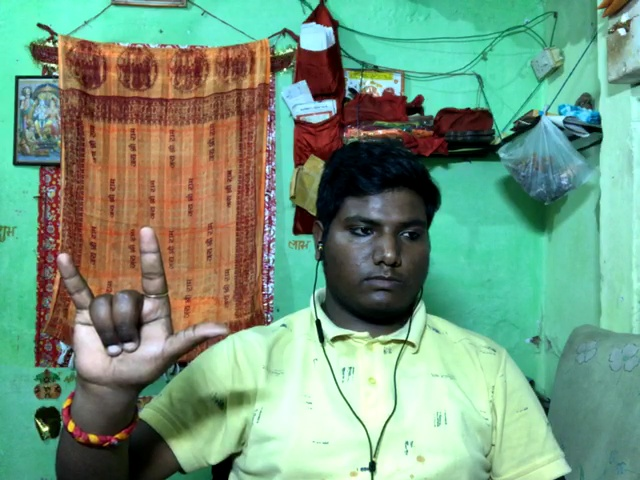I Love You: (43, 219, 237, 392)
